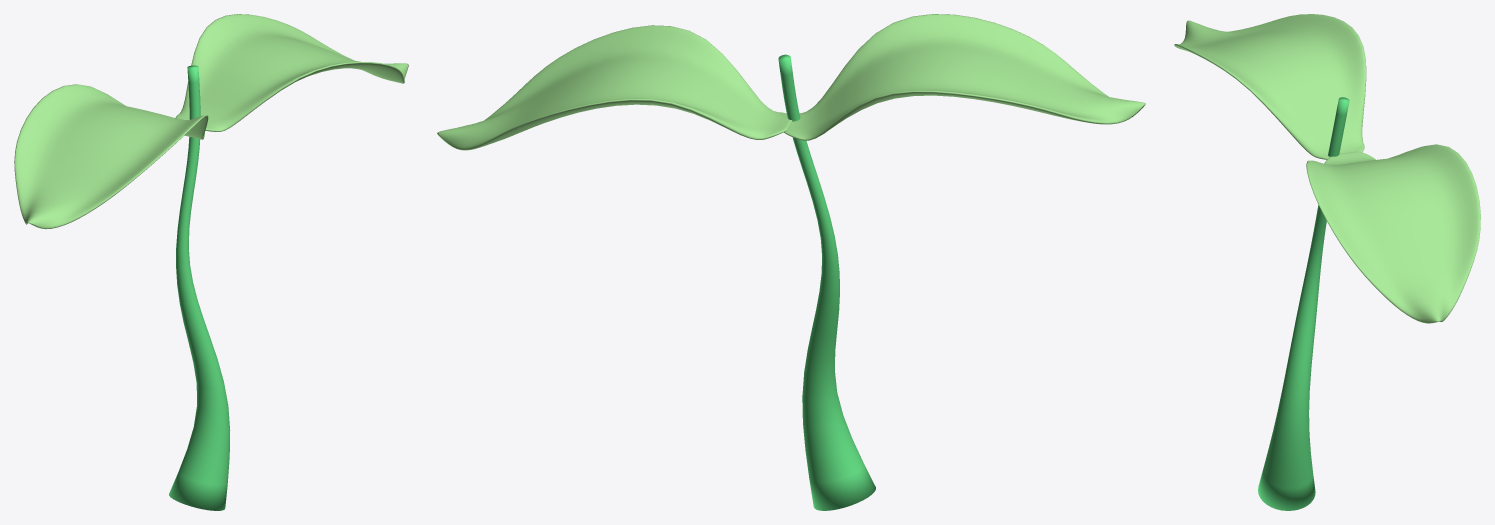
The model's file is flower_animation#2.fbx.
The picture shows the model from 3 angles, left to right: view 1: azimuth 30°, elevation 25°; view 2: azimuth 150°, elevation 25°; view 3: azimuth 270°, elevation 25°; orthographic projection. The views are drawn at different scales.
Visible parts, largest first — view 1: Plane.006, Plane.004, Vert.005; view 2: Plane.006, Plane.004, Vert.005; view 3: Plane.004, Plane.006, Vert.005.
Boxes of the visible parts, x1,y1,x2,y2 form: Plane.006: [14, 84, 208, 229]; Plane.004: [175, 14, 408, 131]; Vert.005: [169, 65, 230, 510]; Plane.006: [784, 14, 1145, 140]; Plane.004: [437, 25, 792, 150]; Vert.005: [778, 54, 875, 510]; Plane.004: [1306, 144, 1480, 323]; Plane.006: [1174, 14, 1366, 159]; Vert.005: [1258, 97, 1349, 510].
Size of the model in its own units: 531 by 422 by 281.
